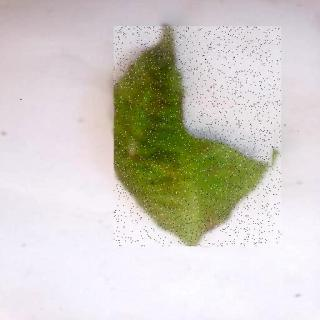Brown Blight: (115, 27, 283, 247)
